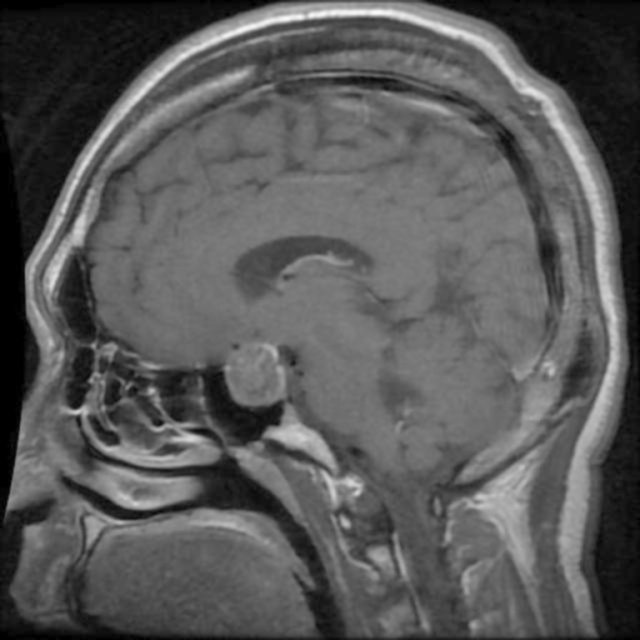no tumor: (219, 335, 299, 406)
